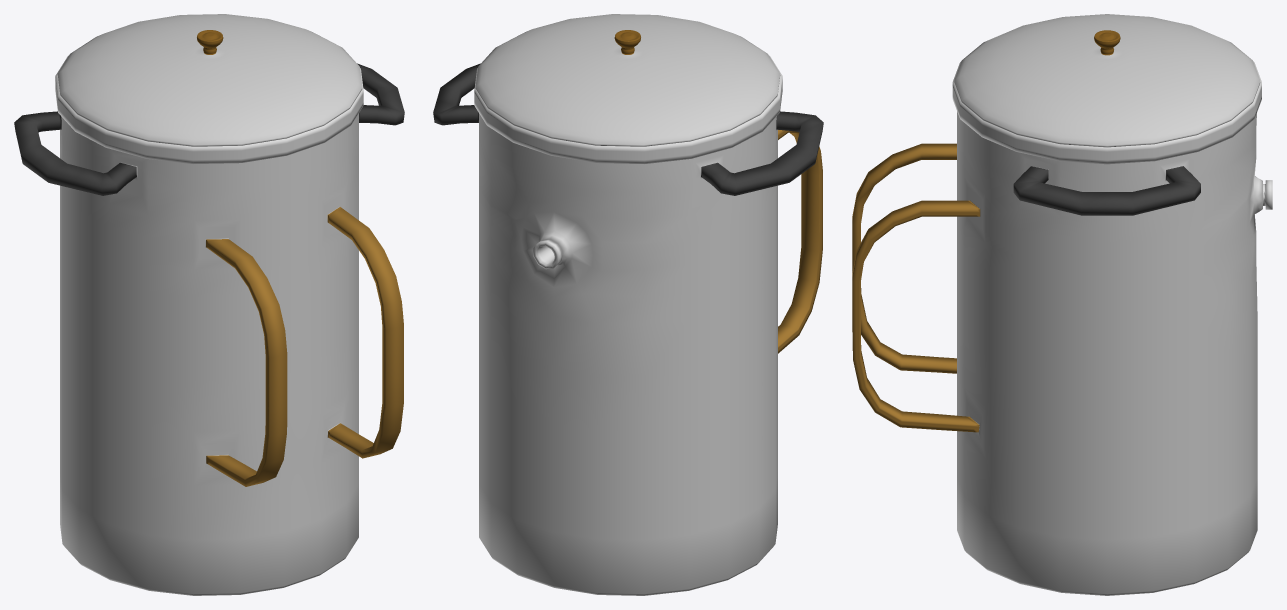
File: Tzadok_Pot_Fixed.fbx
The picture shows the model from 3 angles, left to right: view 1: azimuth 30°, elevation 25°; view 2: azimuth 150°, elevation 25°; view 3: azimuth 270°, elevation 25°; orthographic projection.
Parts seen in each view (by area): view 1: Pot, Potlid; view 2: Pot, Potlid; view 3: Pot, Potlid.
Part boxes in pixels (bbox=[...]): Pot: bbox=[14, 55, 404, 595]; Potlid: bbox=[57, 14, 362, 146]; Pot: bbox=[433, 55, 823, 595]; Potlid: bbox=[475, 14, 780, 146]; Pot: bbox=[852, 61, 1272, 595]; Potlid: bbox=[954, 14, 1260, 147].
Size of the model in its own units: 26.66 by 36.48 by 27.67.
